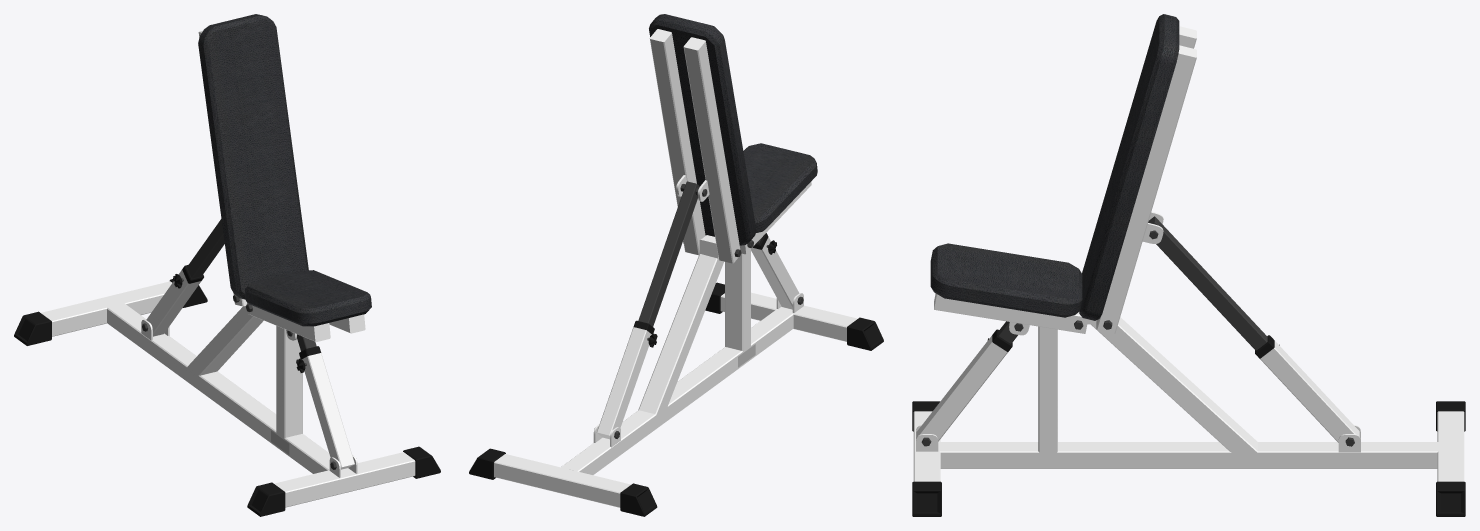
The model's file is Bench_4.FBX.
3 renders of one model, left to right at view 1: azimuth 30°, elevation 25°; view 2: azimuth 150°, elevation 25°; view 3: azimuth 270°, elevation 25°, orthographic. The views are drawn at different scales.
Visible parts, largest first — view 1: Bench_4; view 2: Bench_4; view 3: Bench_4.
Part boxes in pixels (x1,y1,x2,y2): Bench_4: (14, 14, 440, 516); Bench_4: (469, 14, 883, 516); Bench_4: (912, 14, 1465, 516).
Size of the model in its own units: 0.5793 by 1.36 by 1.2.
